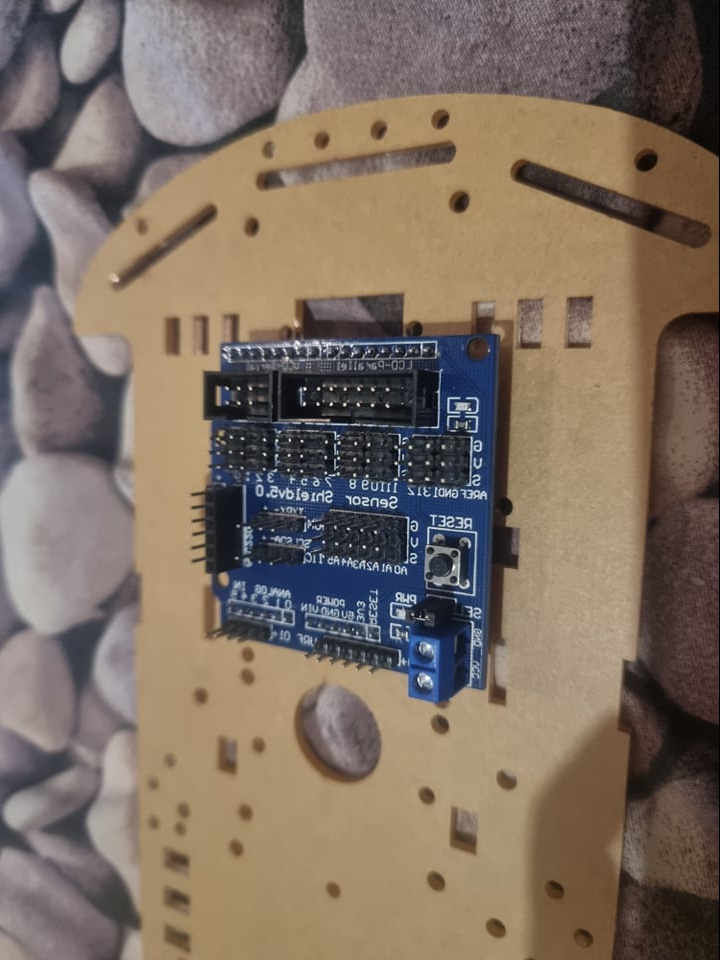5V EXPANSION: (191, 330, 500, 700)
